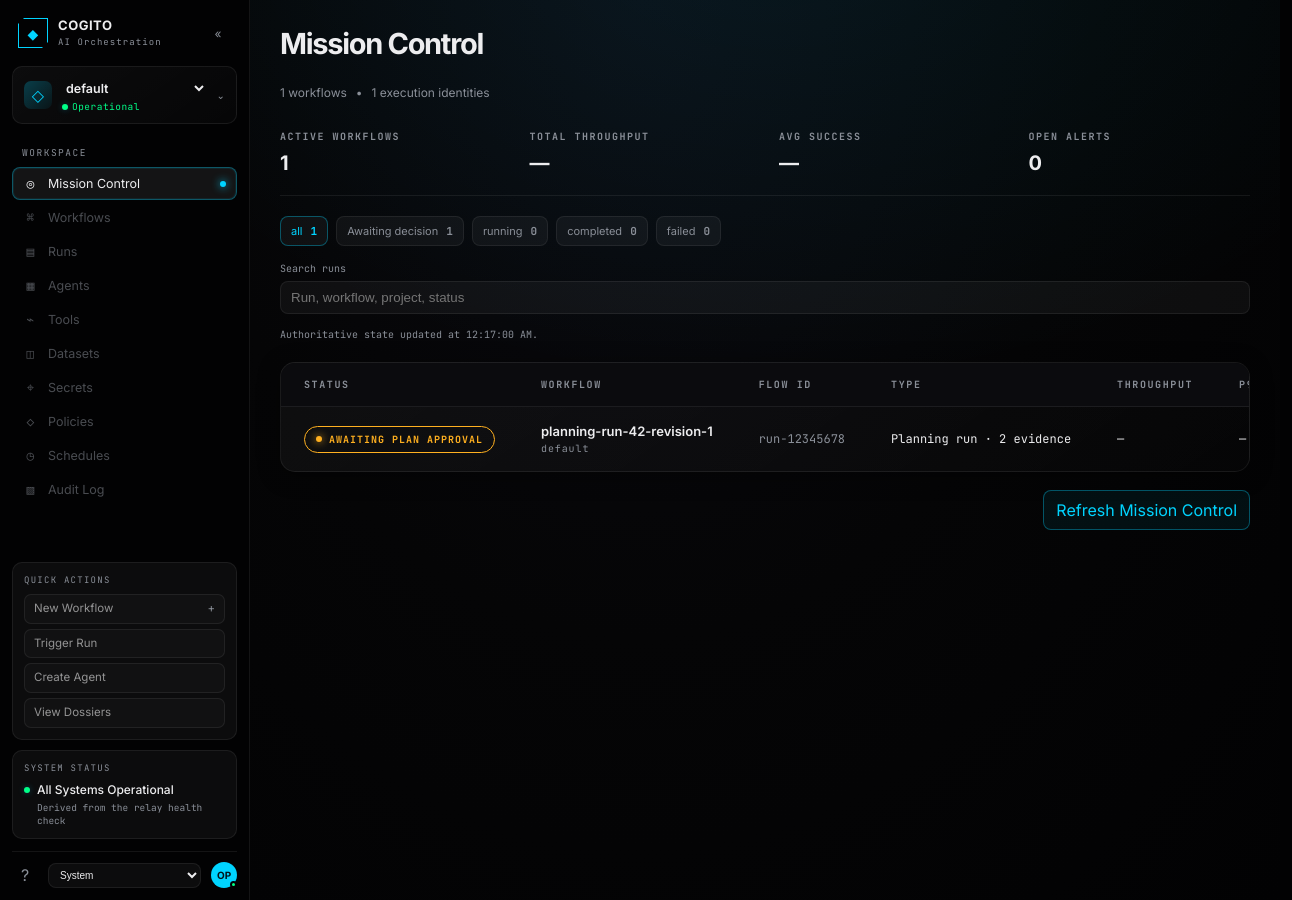
Scenario: keeps a stale approval conflict visible and never claims success
The width and height of the screenshot is (1292, 900).
Click the text "run-12345678": (802, 439) [736,407,868,471]
(page scrolled)
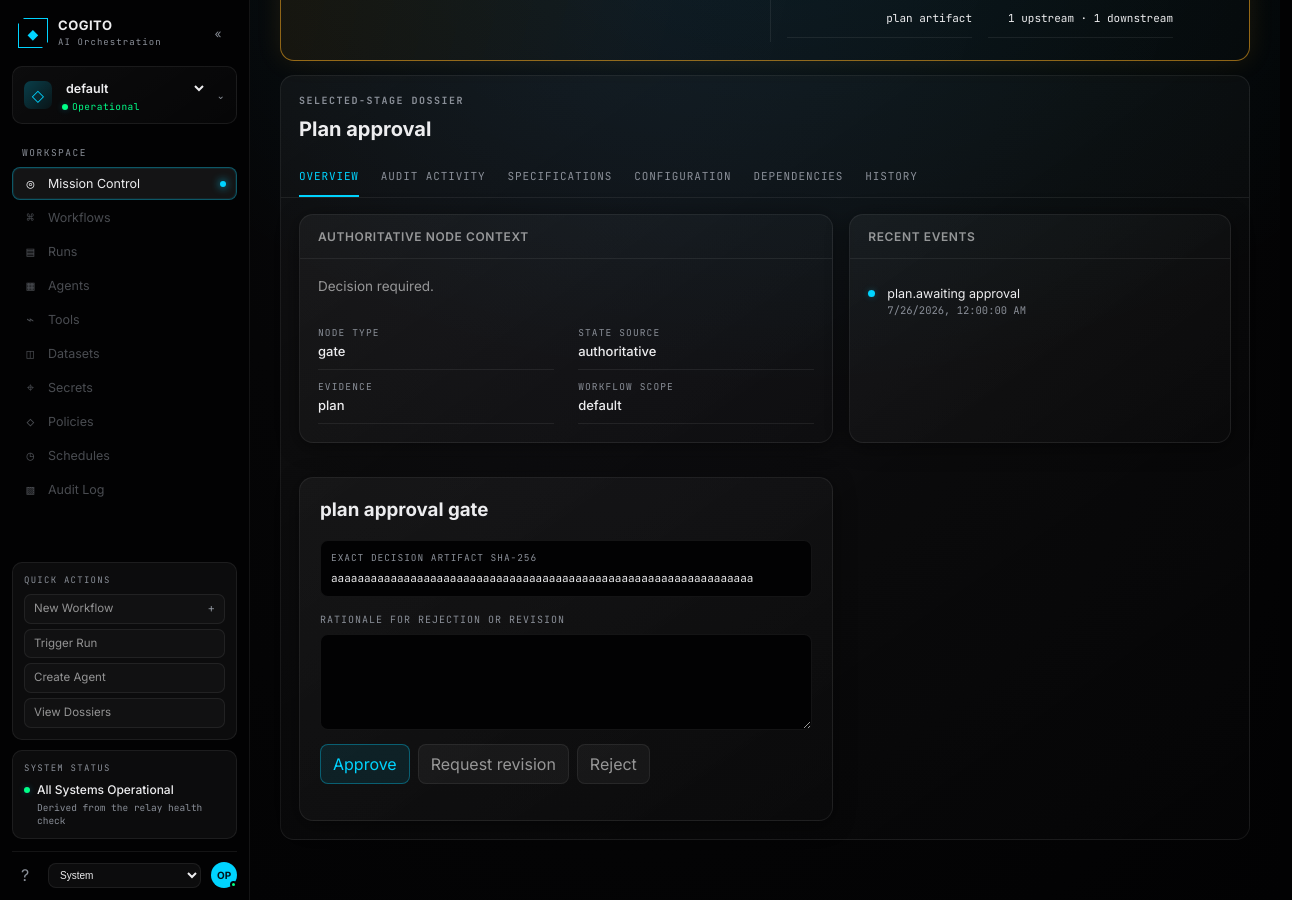
Click the button "Approve": (365, 764) [320,744,410,784]
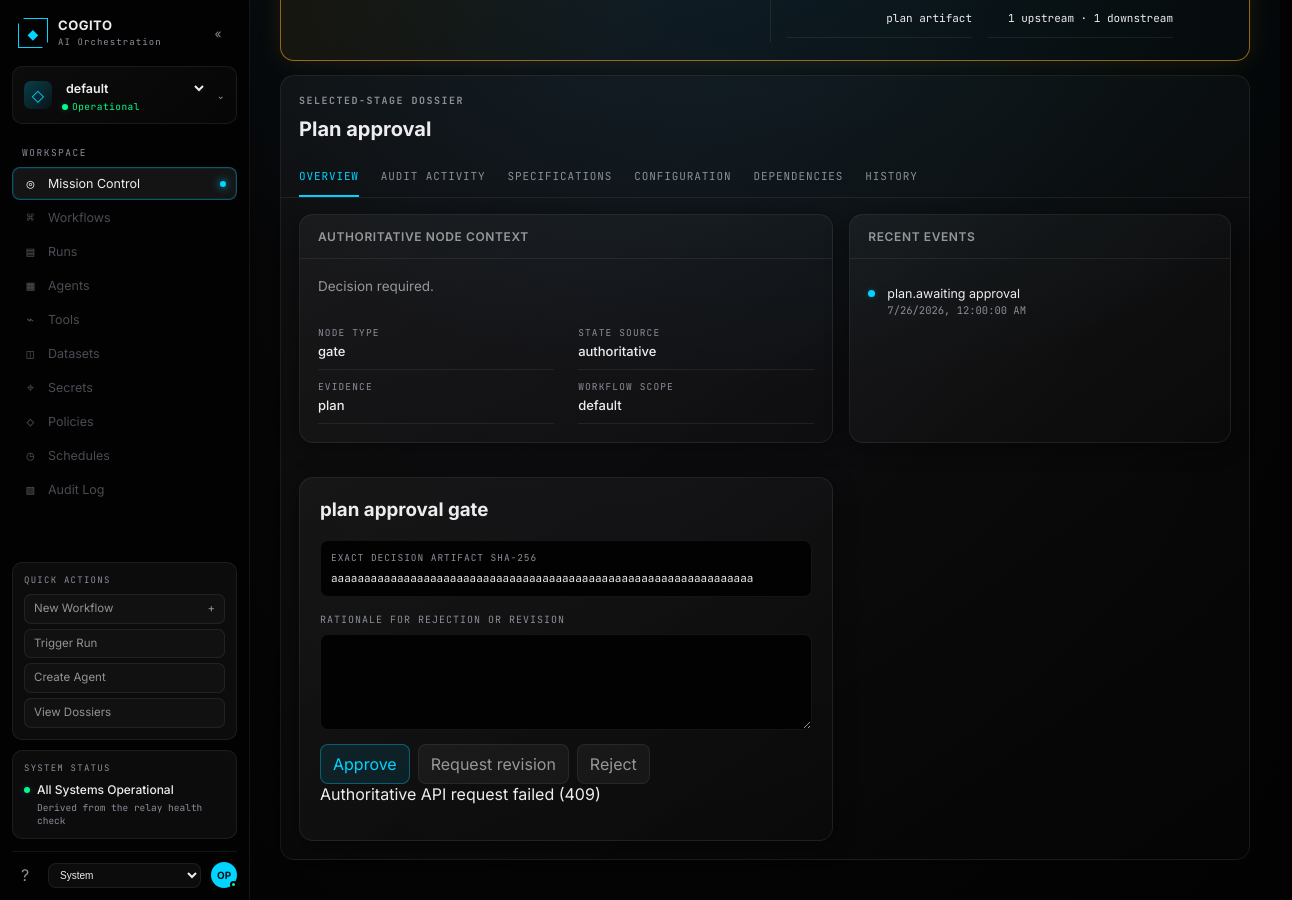
expect the text "Authoritative API request failed (409)" is shown: met, box [320,784,601,804]
